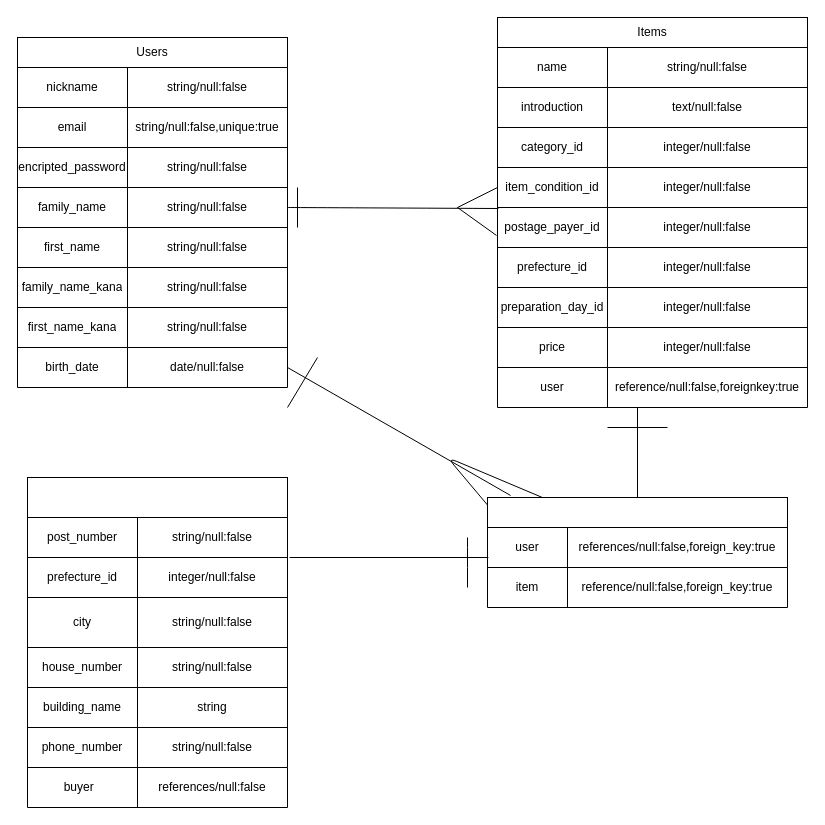
This 825x825 diagram has some shape labels left out. The shapes that lost their labels are listed below. From the top down, each one's box as (x1, y1, x2, y2) in pixels, then its label:
(26, 476, 288, 518): shipping_addresses
(486, 496, 788, 528): buyers
